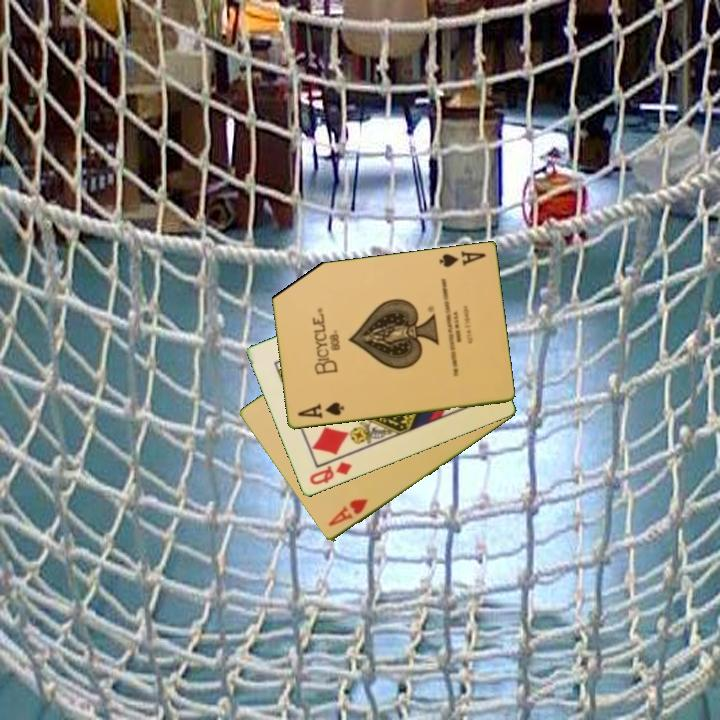Ah: (325, 495, 371, 530)
As: (435, 248, 489, 270), (294, 399, 346, 421)
Qd: (306, 458, 355, 488)
